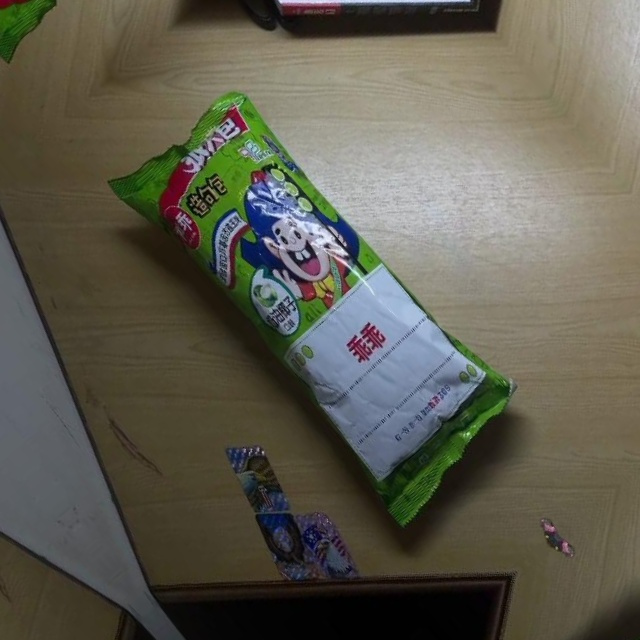Good-Luck: (103, 62, 542, 535)
